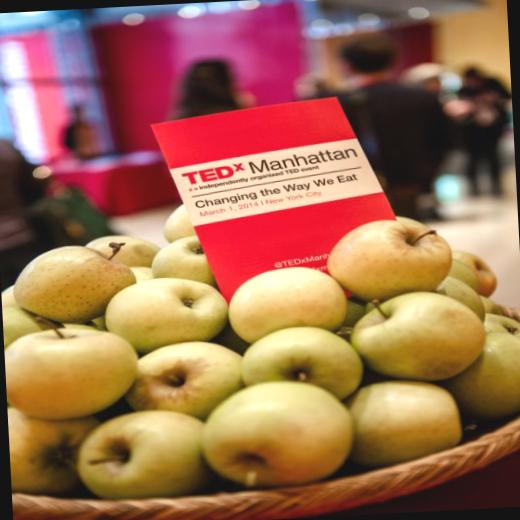Apple: (0, 181, 520, 511)
